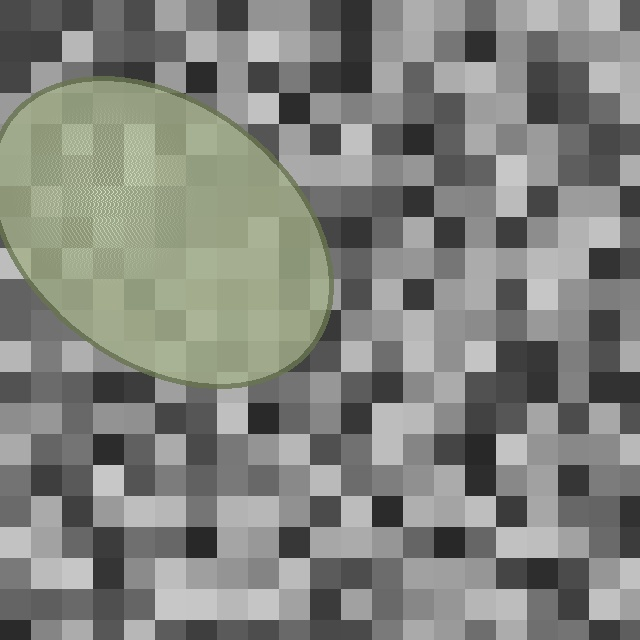lens: (0, 78, 331, 386)
